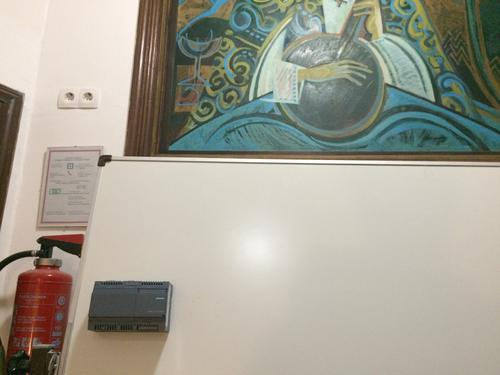iot2000: (87, 280, 175, 334)
